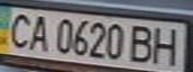0: (103, 20, 130, 61), (51, 16, 75, 55)
2: (87, 19, 109, 60)
6: (69, 17, 90, 57)
A: (24, 12, 54, 53)
B: (127, 22, 160, 64)
C: (3, 10, 36, 49)
H: (148, 24, 187, 66)
